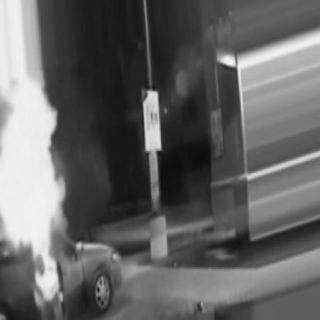other: (138, 89, 171, 153)
